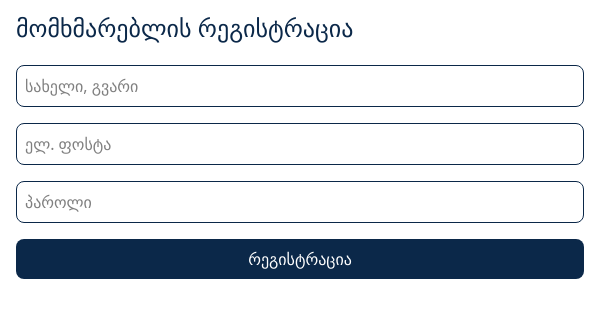
Test: Register Component › handles network errors during registration
Type "გიორგი მაისურაძე" into the field with placeholder "სახელი, გვარი" at (300, 86), box x1=16 y1=65 x2=584 y2=107
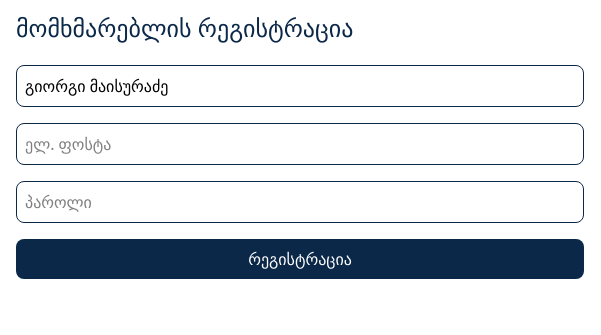
Type "giorgi@example.com" into the field with placeholder "ელ. ფოსტა" at (300, 144), box x1=16 y1=123 x2=584 y2=165
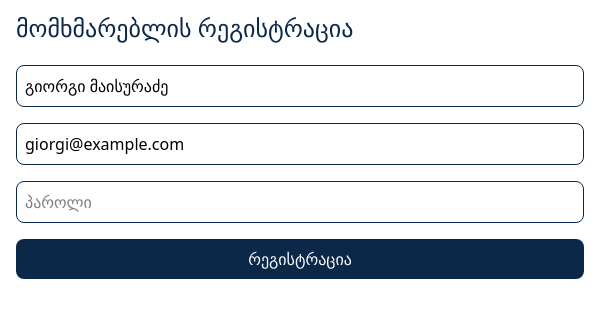
Type "password123" into the password field with placeholder "პაროლი" at (300, 202), box x1=16 y1=181 x2=584 y2=223
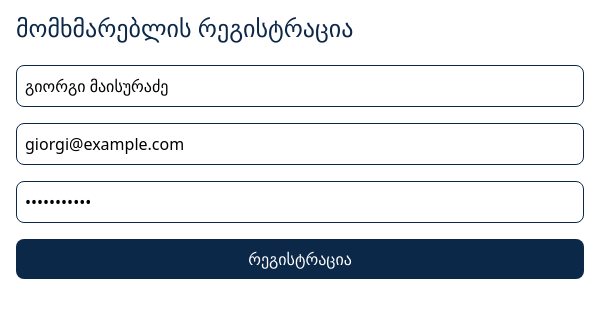
Click the button "რეგისტრაცია" at (300, 259), box x1=16 y1=239 x2=584 y2=279
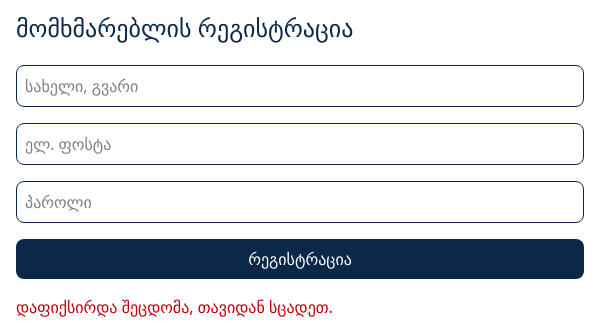
Expected: the text "დაფიქსირდა შეცდომა, თავიდან სცადეთ." is shown, x1=16 y1=296 x2=333 y2=318
Expected: the field with placeholder "სახელი, გვარი" is empty, x1=16 y1=65 x2=584 y2=107
Expected: the field with placeholder "ელ. ფოსტა" is empty, x1=16 y1=123 x2=584 y2=165
